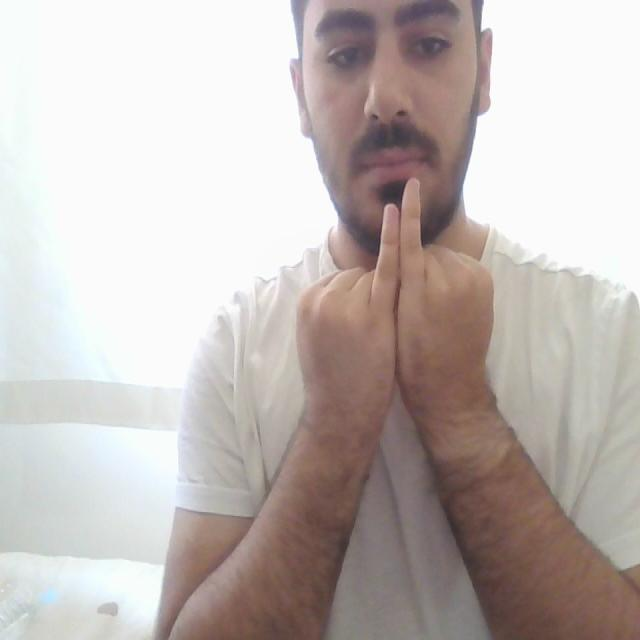Kardes: (292, 171, 496, 434)
